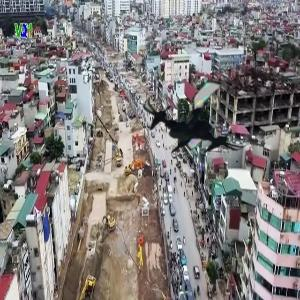drone: (144, 71, 249, 176)
